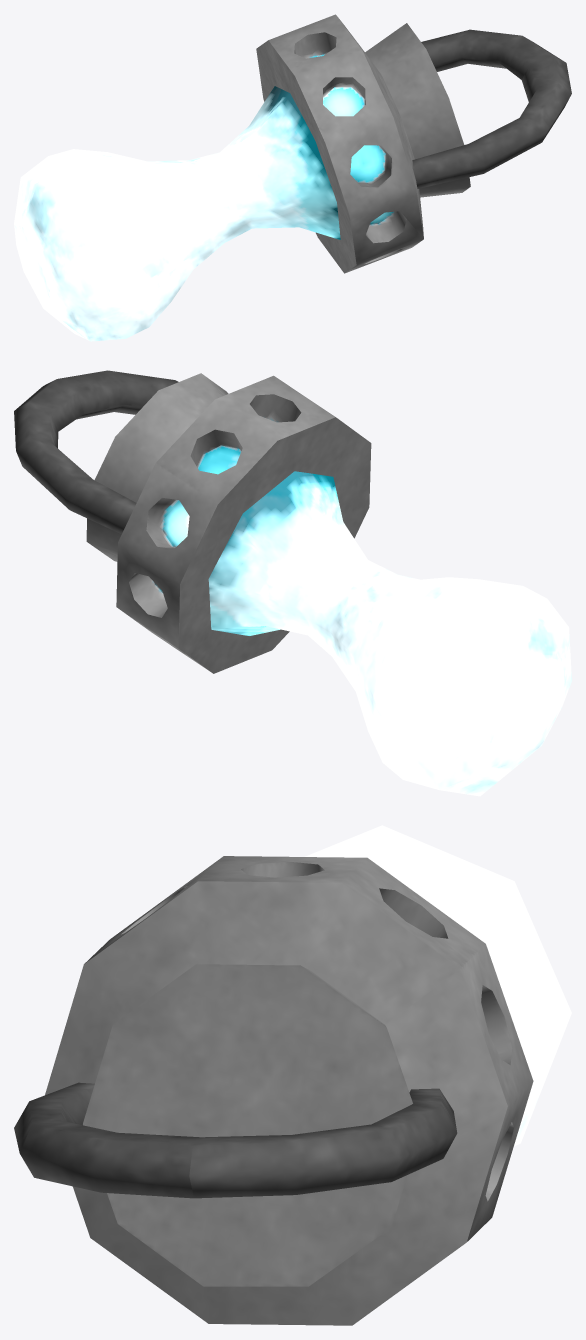
The model's file is lantern solo.fbx.
The picture shows the model from 3 angles, top to bottom: view 1: azimuth 30°, elevation 25°; view 2: azimuth 150°, elevation 25°; view 3: azimuth 270°, elevation 25°; orthographic projection. The views are drawn at different scales.
Visible parts, largest first — view 1: polySurface71; view 2: polySurface71; view 3: polySurface71.
Part boxes in pixels (x1,y1,x2,y2): polySurface71: [14, 14, 571, 341]; polySurface71: [14, 370, 571, 796]; polySurface71: [14, 825, 571, 1325].
Size of the model in its own units: 224 by 120 by 119.
